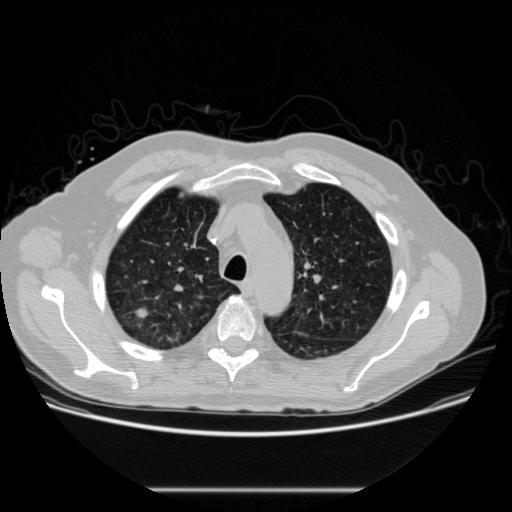nodule: (133, 305, 149, 321)
